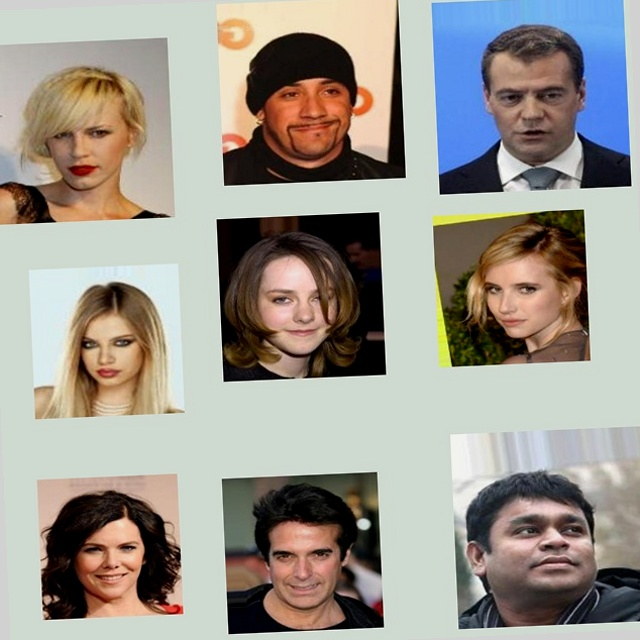celeb_10002: (28, 245, 184, 401)
celeb_2336: (202, 470, 364, 632)
celeb_2619: (450, 14, 640, 214)
celeb_2970: (435, 226, 592, 384)
celeb_3: (236, 0, 426, 186)
celeb_4422: (219, 211, 388, 380)
celeb_5695: (18, 455, 164, 601)
celeb_7: (431, 445, 634, 640)
celeb_797: (5, 18, 192, 205)
